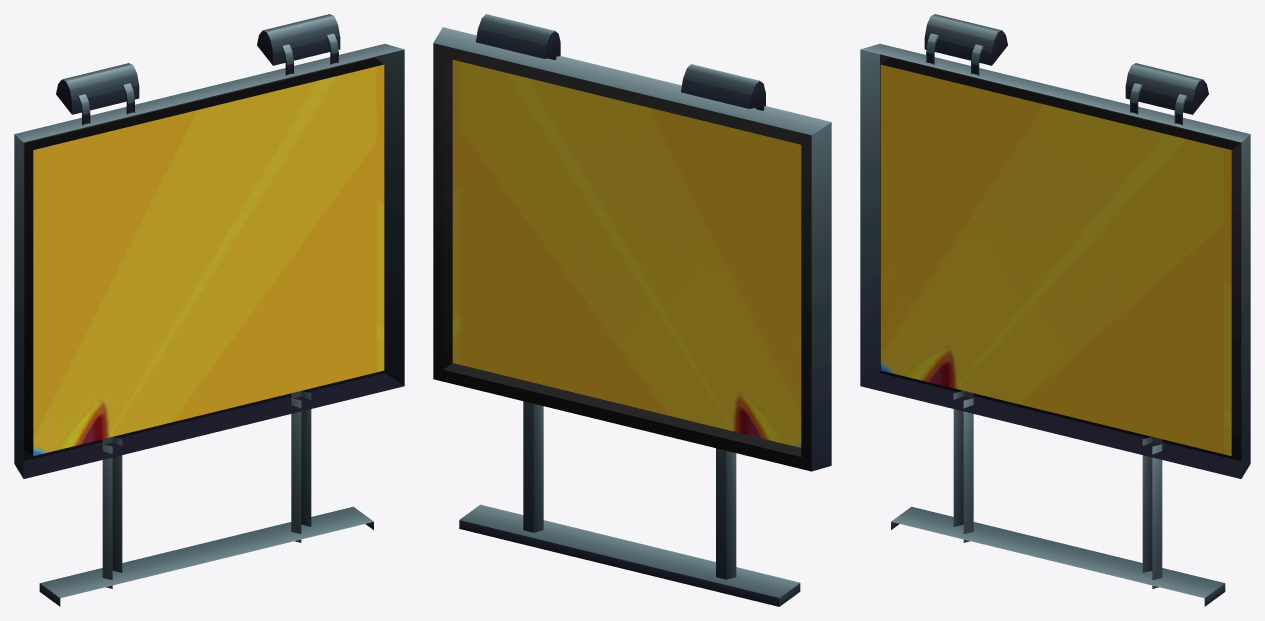
The model's file is billboard.fbx.
3 views of the same model, side by side, from view 1: azimuth 30°, elevation 25°; view 2: azimuth 150°, elevation 25°; view 3: azimuth 330°, elevation 25° (orthographic). The views are drawn at different scales.
Parts seen in each view (by area): view 1: 1.104_Dubai_Event_02; view 2: 1.104_Dubai_Event_02; view 3: 1.104_Dubai_Event_02.
Part boxes in pixels (<box>): 1.104_Dubai_Event_02: <box>14,14,404,606</box>; 1.104_Dubai_Event_02: <box>433,14,831,606</box>; 1.104_Dubai_Event_02: <box>860,14,1250,606</box>.
Size of the model in its own units: 3858 by 4908 by 478.
2 materials, 2 textured.
